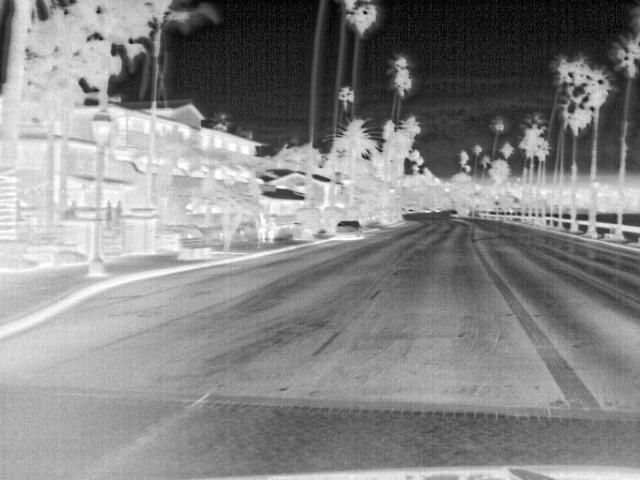car: (332, 220, 366, 240)
person: (257, 213, 270, 244), (265, 216, 279, 244)
